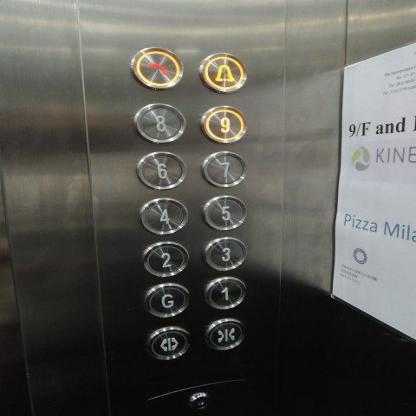1: (203, 275, 246, 308)
2: (141, 240, 188, 276)
3: (204, 236, 246, 270)
4: (139, 197, 187, 234)
5: (201, 194, 245, 230)
6: (136, 150, 186, 190)
7: (200, 149, 248, 188)
8: (132, 104, 186, 142)
9: (198, 104, 247, 144)
G: (142, 282, 190, 317)
alarm: (198, 52, 248, 92)
call: (129, 45, 183, 88)
close: (202, 318, 244, 350)
keyhole: (180, 389, 215, 411)
open: (144, 325, 191, 360)
